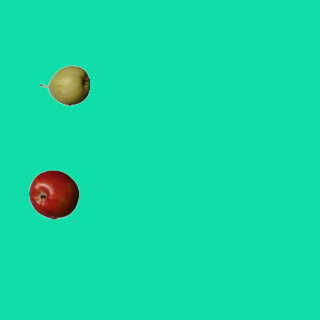Apple Braeburn: (28, 169, 78, 219)
Pear: (39, 60, 89, 110)
